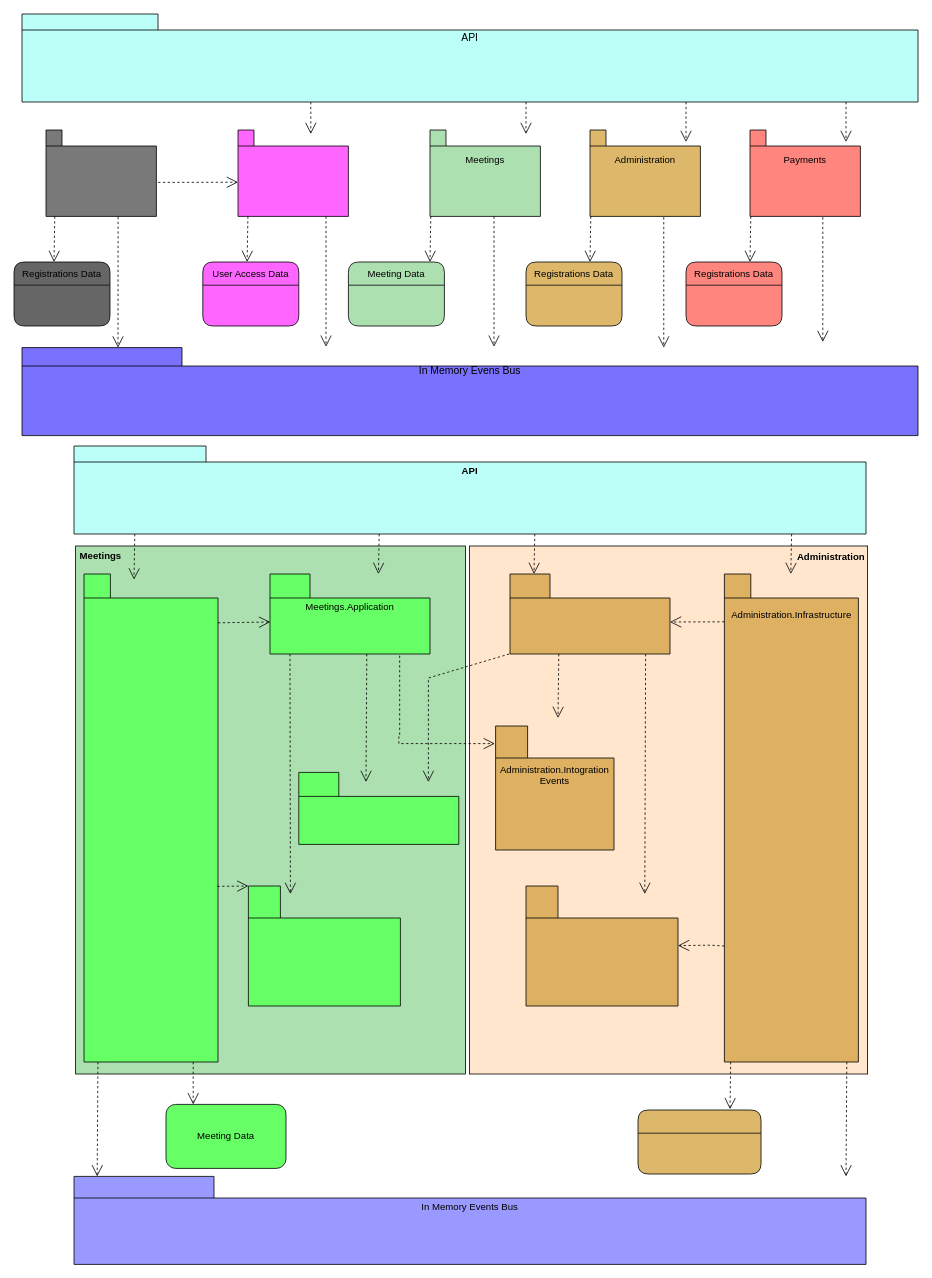
The diagram is 932 pixels wide and 1278 high, and some of its shapes have lost their labels. Here are the shapes that lost their labels. From the top down, the centre of each, then its label:
At [100,172]: "Registrations".
At [292,172]: "User Access".
At [589,613]: "Administration.Application".
At [150,817]: "Meetings.Infrastructure".
At [378,808]: "Meetings integrationEvents".
At [324,945]: "Meetings.Domain".
At [601,945]: "Administration.Domain".
At [699,1141]: "Administration Data".
